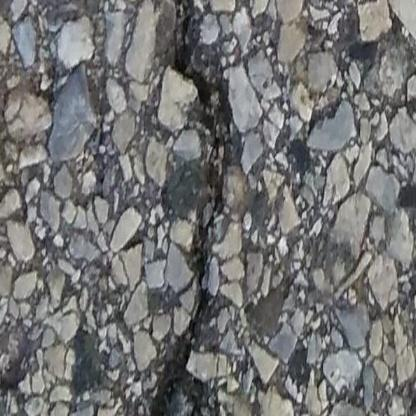Cracks: (151, 0, 231, 416)
